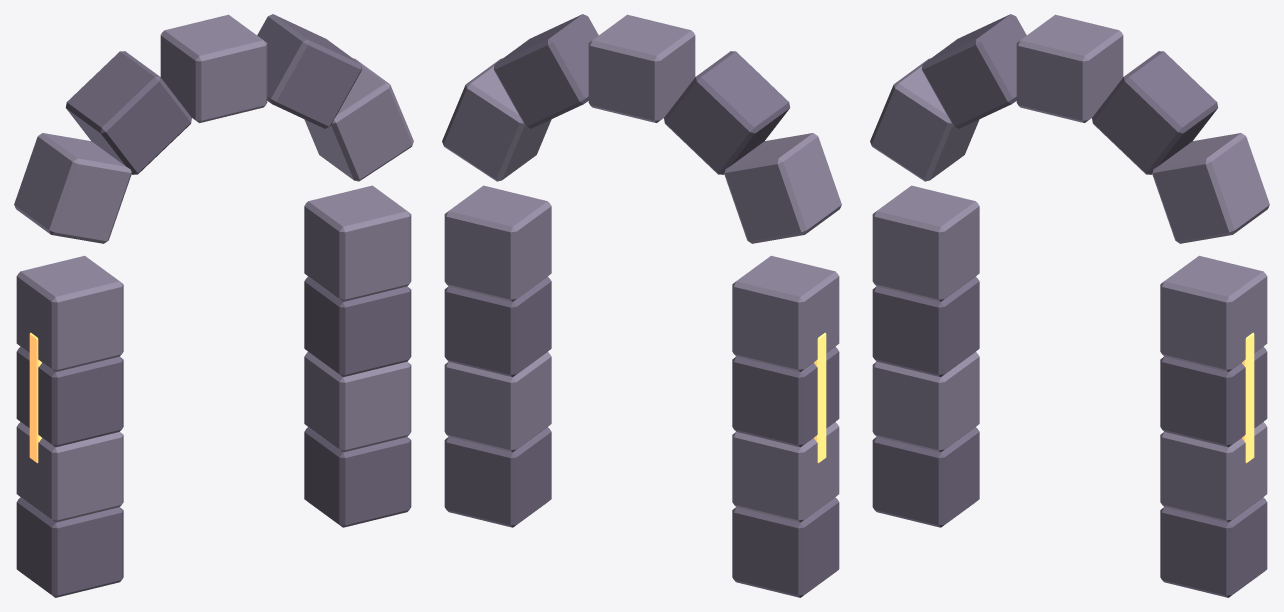
File: ember_basalt_archway.glb
3 renders of one model, left to right at view 1: azimuth 30°, elevation 25°; view 2: azimuth 150°, elevation 25°; view 3: azimuth 330°, elevation 25°, orthographic.
Parts seen in each view (by area): view 1: ember_basalt_archway.001; view 2: ember_basalt_archway.001; view 3: ember_basalt_archway.001.
Boxes of the visible parts, <box> form: ember_basalt_archway.001: <box>14,14,413,597</box>; ember_basalt_archway.001: <box>442,14,841,597</box>; ember_basalt_archway.001: <box>870,14,1269,597</box>.
Bounding box in the file's own units: 4.82 × 6.4 × 0.9.
